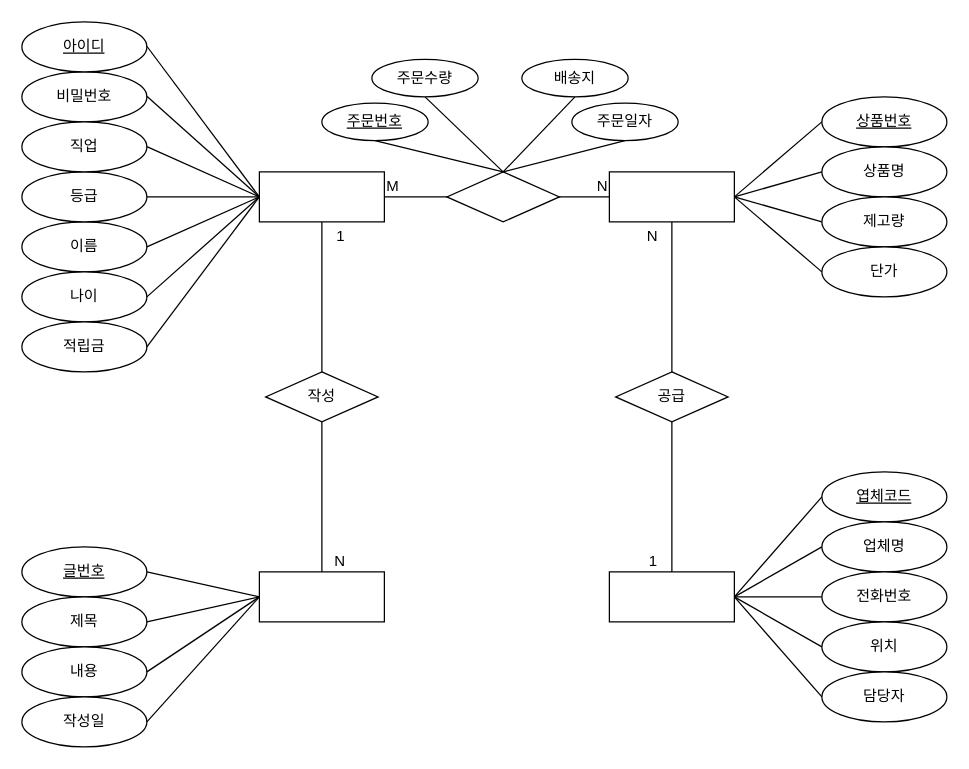
The diagram is 969 pixels wide and 769 high, and some of its shapes have lost their labels. Here are the shapes that lost their labels. From the top down, the centre of each, then its label:
[321,196]: 회원
[502,196]: 주문
[671,196]: 상품
[321,596]: 게시글
[671,596]: 제조업체
